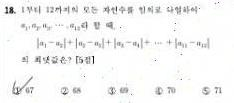choice: (11, 81, 22, 95)
not-choice: (200, 85, 211, 97), (59, 86, 69, 96), (153, 86, 163, 96), (106, 86, 117, 95)
